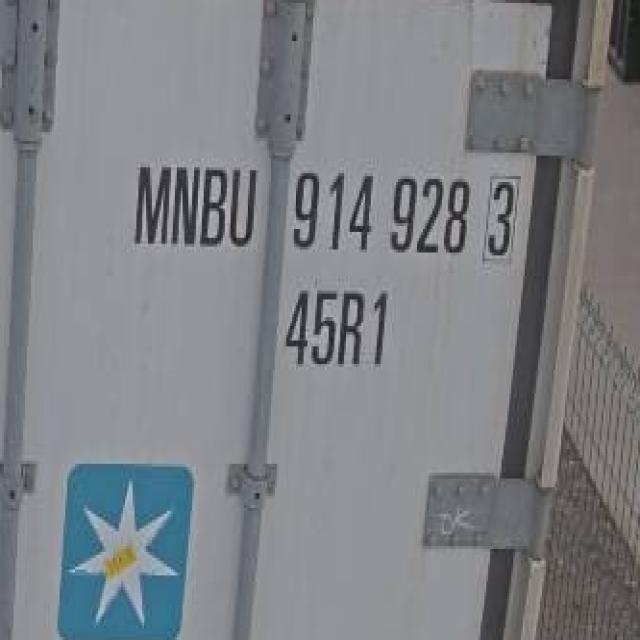dv: (478, 171, 524, 272)
owner: (119, 151, 261, 257)
serial: (293, 162, 474, 265)
size: (276, 282, 402, 374)
